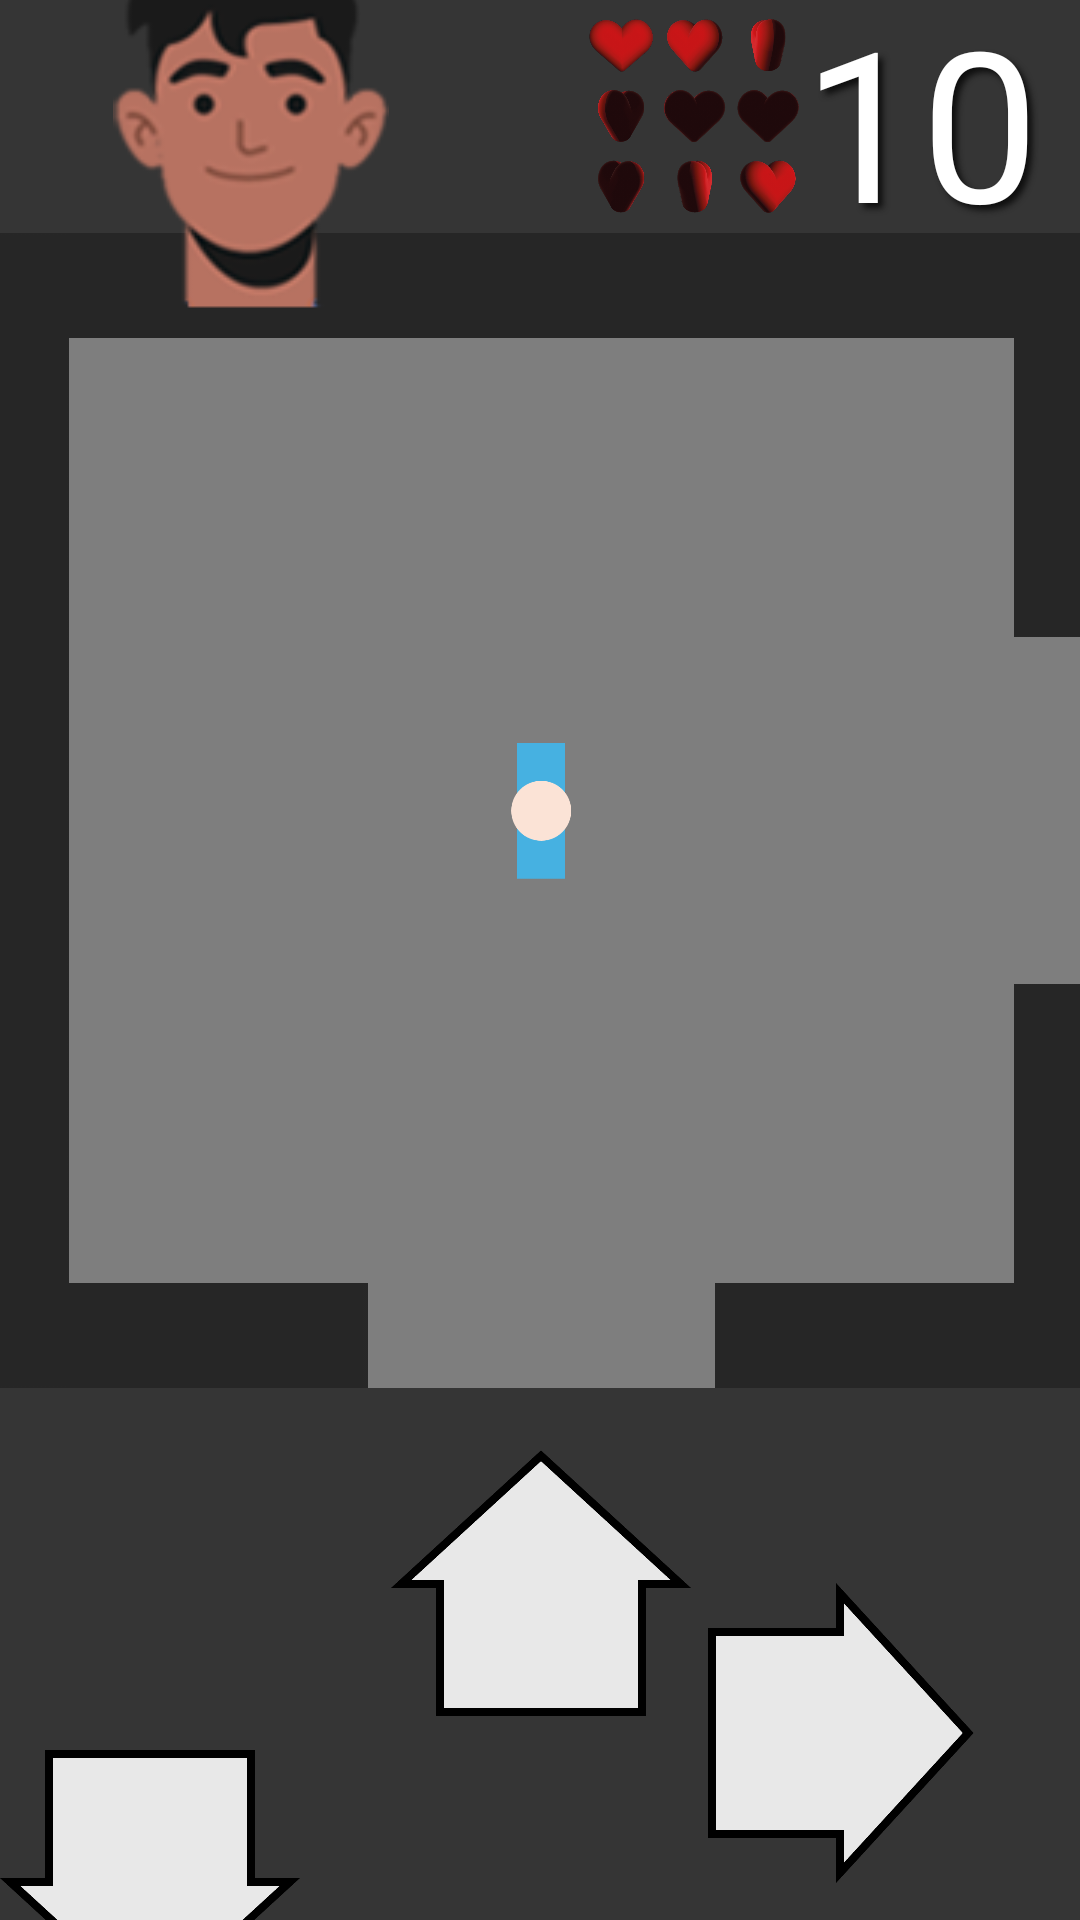

Screen size 1080 × 1920. Icon name, then its box in pixels as (x1=x1, y1=y1, x2=x2, y2=y2):
coeur: (x1=590, y1=19, x2=799, y2=213)
